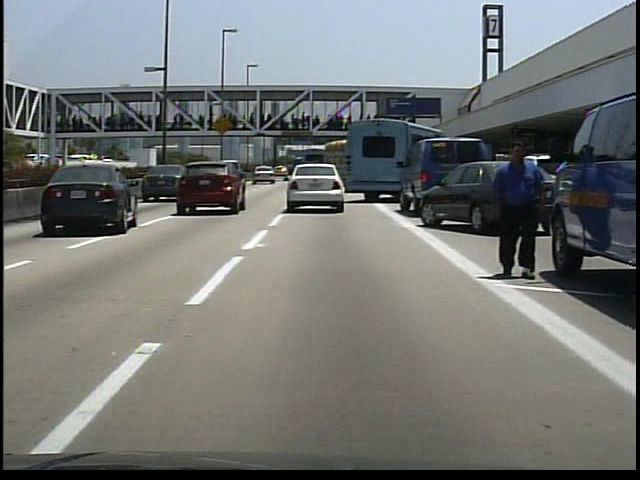person: (484, 138, 552, 280)
